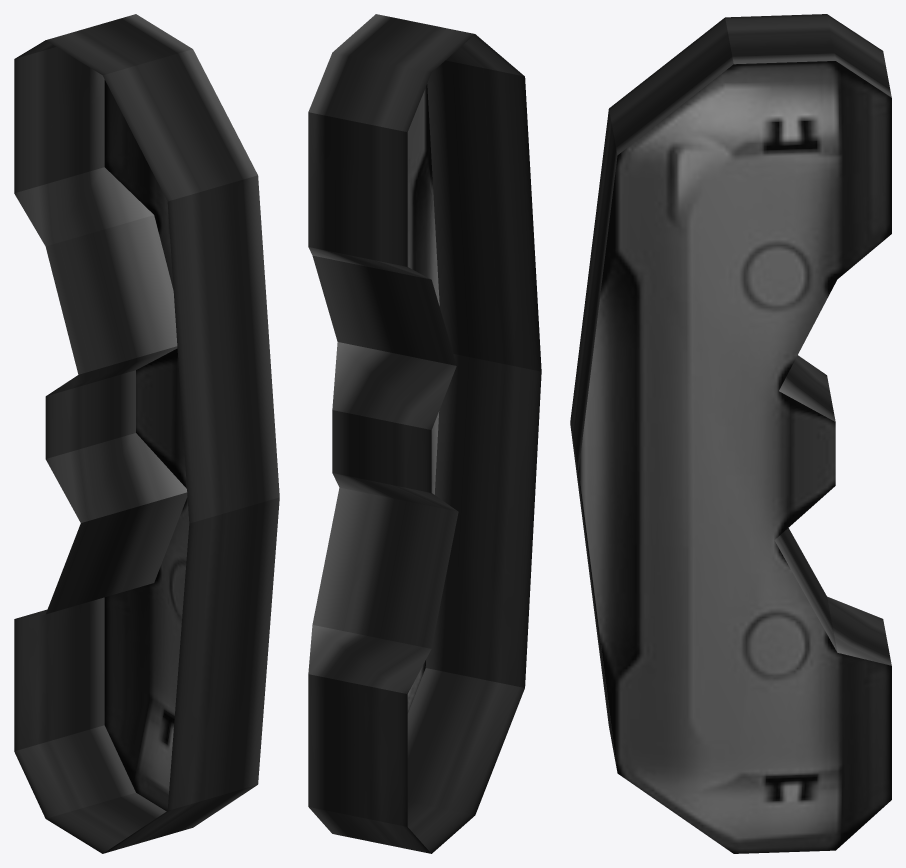
File: tozzo98_caliperstock_fr_rb1c_tire_1k_0.001_lev3.glb
3 views of the same model, side by side, from view 1: azimuth 30°, elevation 25°; view 2: azimuth 150°, elevation 25°; view 3: azimuth 270°, elevation 25° (orthographic).
Parts seen in each view (by area): view 1: tozzo98_caliperstock_fr_rb1c_tire_1k_0.001_lev3; view 2: tozzo98_caliperstock_fr_rb1c_tire_1k_0.001_lev3; view 3: tozzo98_caliperstock_fr_rb1c_tire_1k_0.001_lev3.
Part boxes in pixels (x1=…): tozzo98_caliperstock_fr_rb1c_tire_1k_0.001_lev3: x1=14, y1=14, x2=279, y2=853; tozzo98_caliperstock_fr_rb1c_tire_1k_0.001_lev3: x1=308, y1=14, x2=541, y2=853; tozzo98_caliperstock_fr_rb1c_tire_1k_0.001_lev3: x1=570, y1=14, x2=891, y2=853.
Size of the model in its own units: 0.027 by 0.1615 by 0.0596.
Materials: 1 (1 with a texture image).
